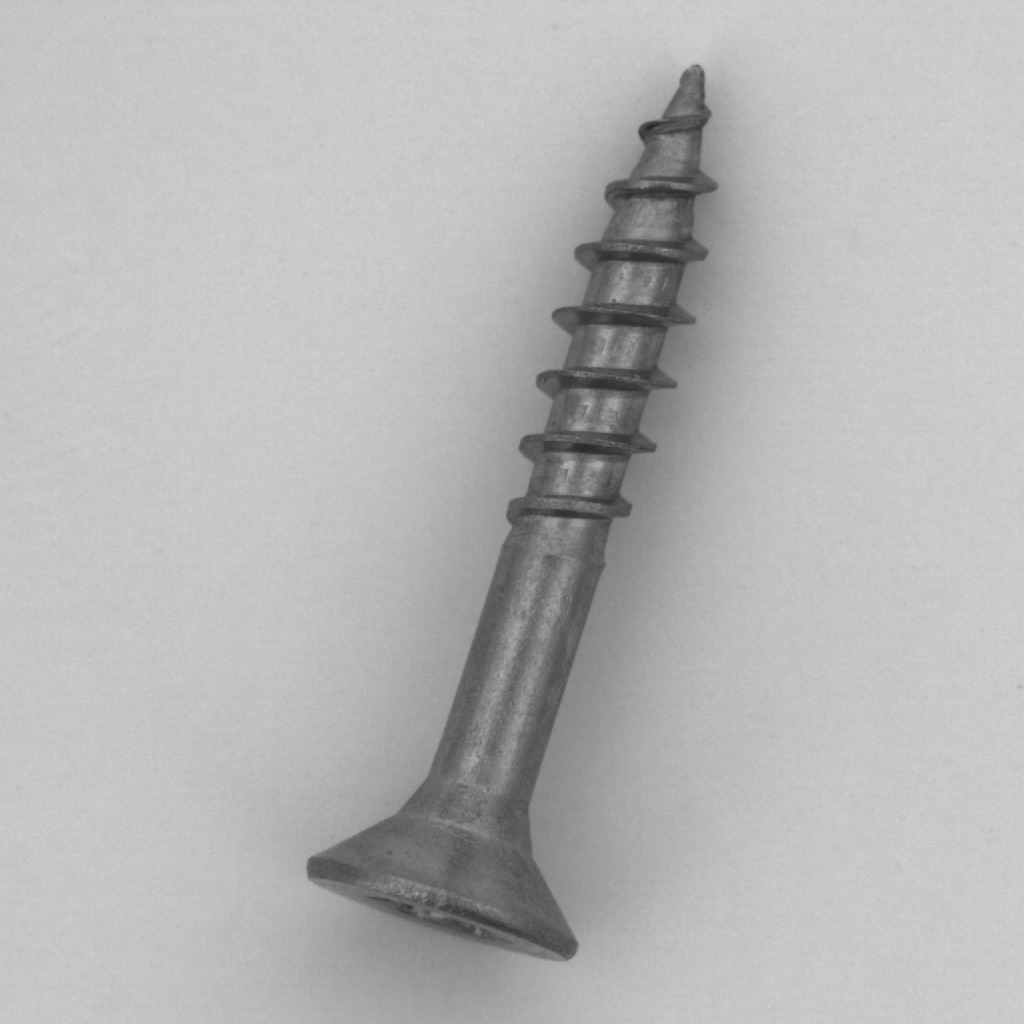good: (277, 43, 773, 977)
